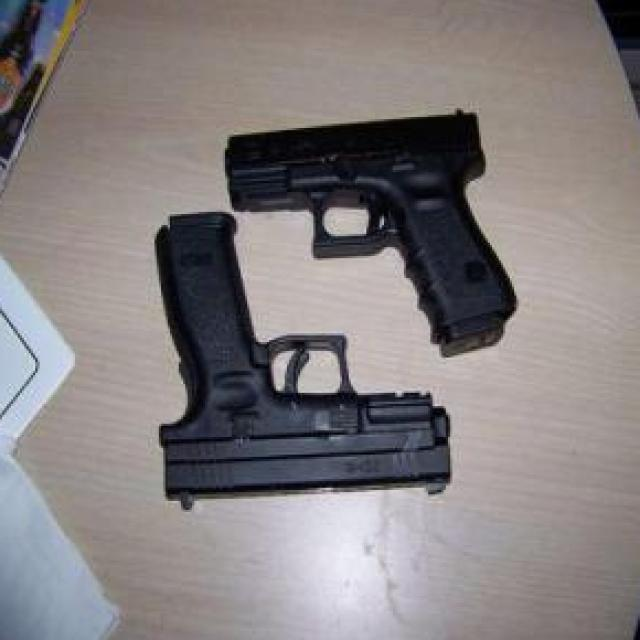pistol: (149, 210, 452, 508), (223, 111, 519, 360)
